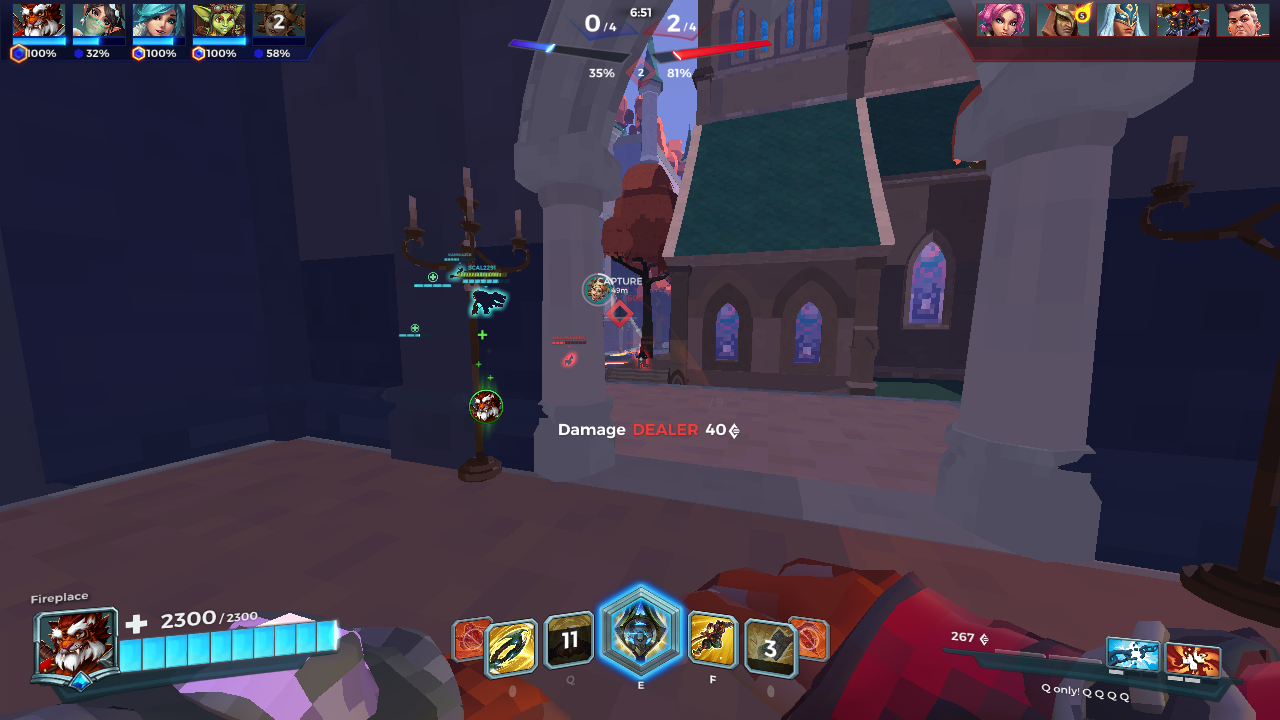model: (635, 346, 651, 370), (561, 353, 575, 366)
